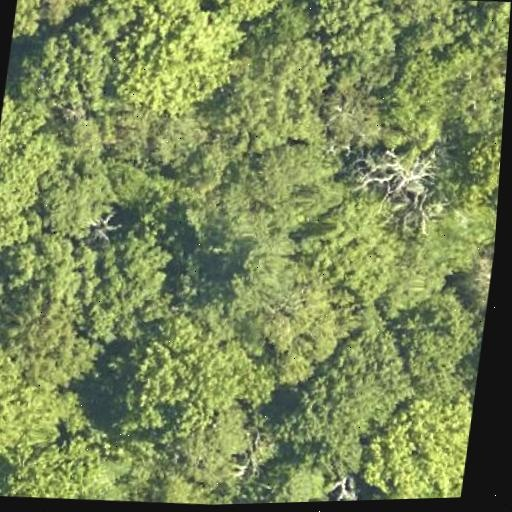tree-top: (105, 306, 288, 478), (86, 0, 250, 123), (0, 288, 99, 477), (190, 131, 341, 254), (279, 336, 411, 463), (0, 271, 112, 416), (215, 21, 338, 151), (73, 218, 183, 347), (358, 383, 475, 500), (299, 191, 409, 308), (0, 423, 149, 506), (0, 85, 63, 255), (13, 28, 122, 124), (371, 45, 458, 158), (388, 209, 490, 301), (211, 238, 316, 326), (296, 0, 401, 83), (312, 59, 399, 156), (401, 289, 488, 381), (35, 149, 125, 236), (439, 121, 503, 234), (379, 0, 489, 63), (368, 137, 443, 213), (252, 453, 335, 504), (144, 111, 212, 169), (132, 470, 227, 507), (12, 0, 94, 39), (198, 0, 293, 28), (464, 238, 495, 319), (98, 157, 151, 197), (478, 0, 511, 62), (11, 0, 51, 46), (340, 494, 406, 501)
